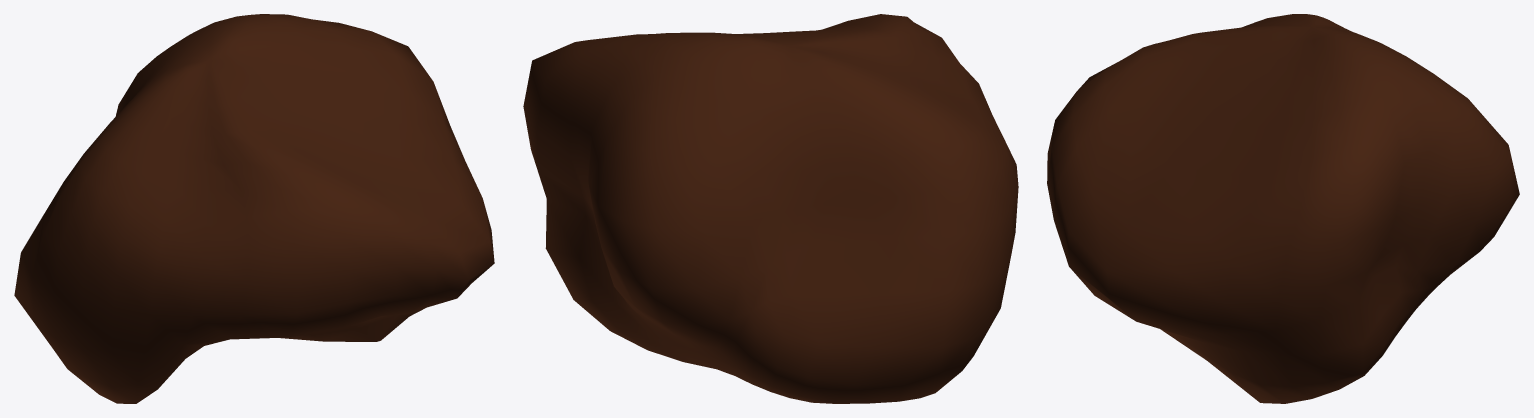
File: Meteroid_02.fbx
3 renders of one model, left to right at view 1: azimuth 30°, elevation 25°; view 2: azimuth 150°, elevation 25°; view 3: azimuth 270°, elevation 25°, orthographic. The views are drawn at different scales.
Visible parts, largest first — view 1: Meteroid_02; view 2: Meteroid_02; view 3: Meteroid_02.
Part boxes in pixels (x1,y1,x2,y2): Meteroid_02: (14, 14, 494, 403); Meteroid_02: (523, 14, 1018, 403); Meteroid_02: (1047, 14, 1519, 403).
Size of the model in its own units: 131 by 95.73 by 130.
